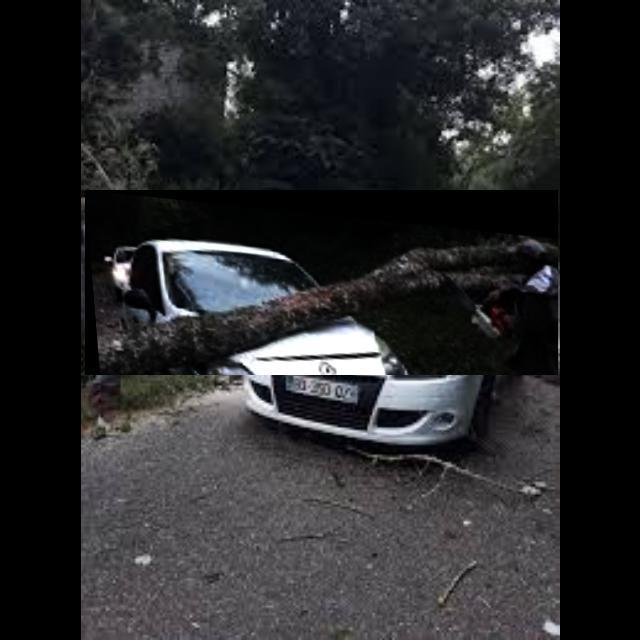fallen_tree: (85, 190, 559, 376)
